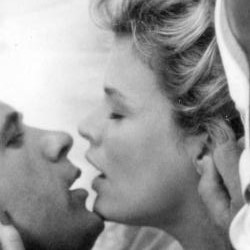face: (77, 1, 250, 228), (1, 82, 107, 250)
